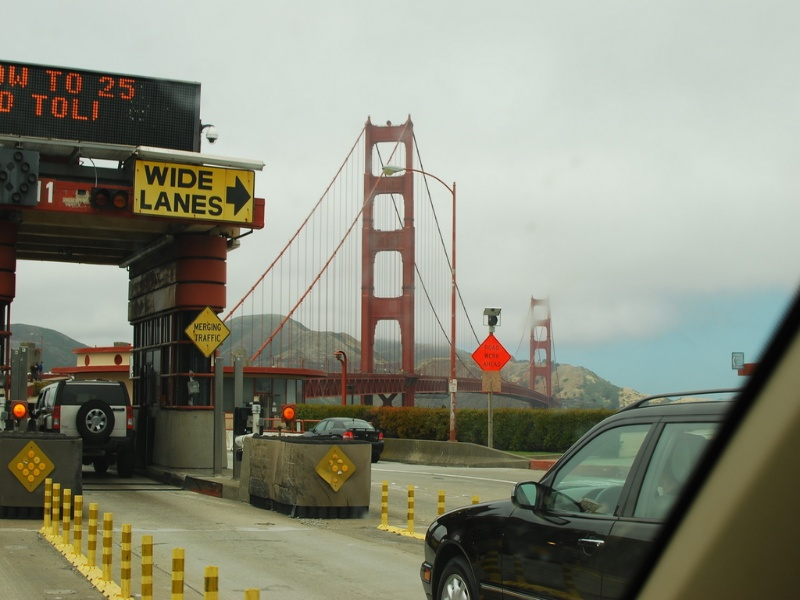right_direction: (223, 172, 251, 217)
